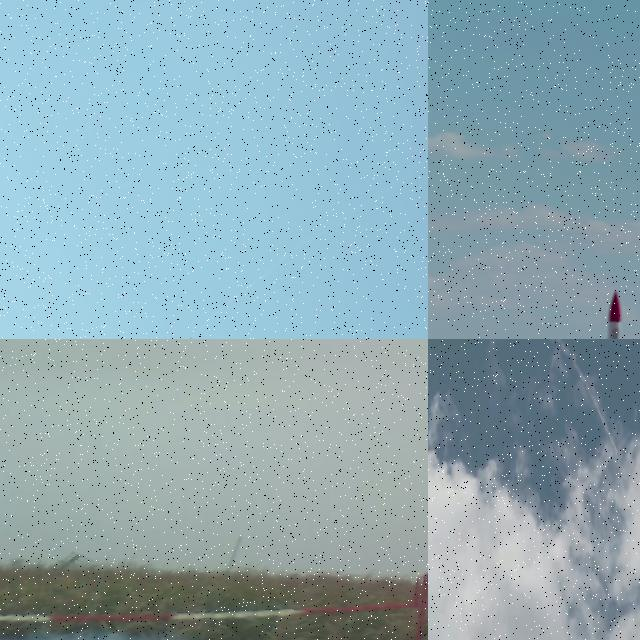Rocket: (583, 289, 640, 339), (189, 337, 192, 339), (617, 452, 619, 455)
